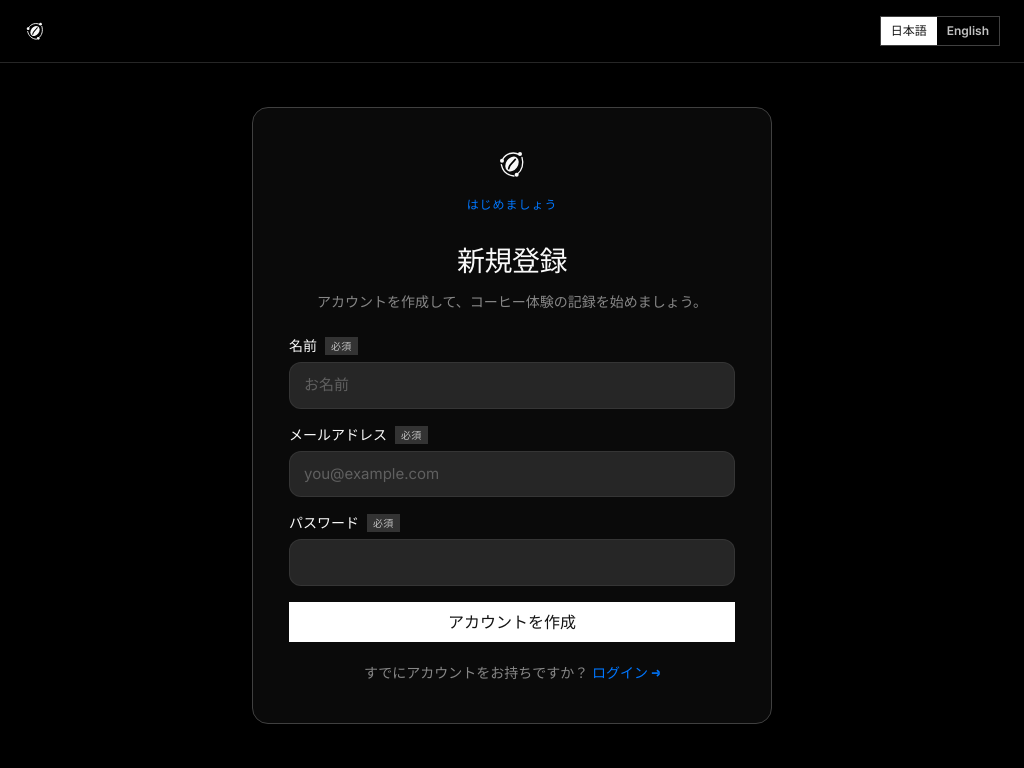
Scenario: RegisterPage › すべて空のまま送信すると、APIを呼ばずクライアント側エラーを表示する
The image size is (1024, 768).
Click the button "アカウントを作成" at (512, 622), box [289, 602, 735, 642]
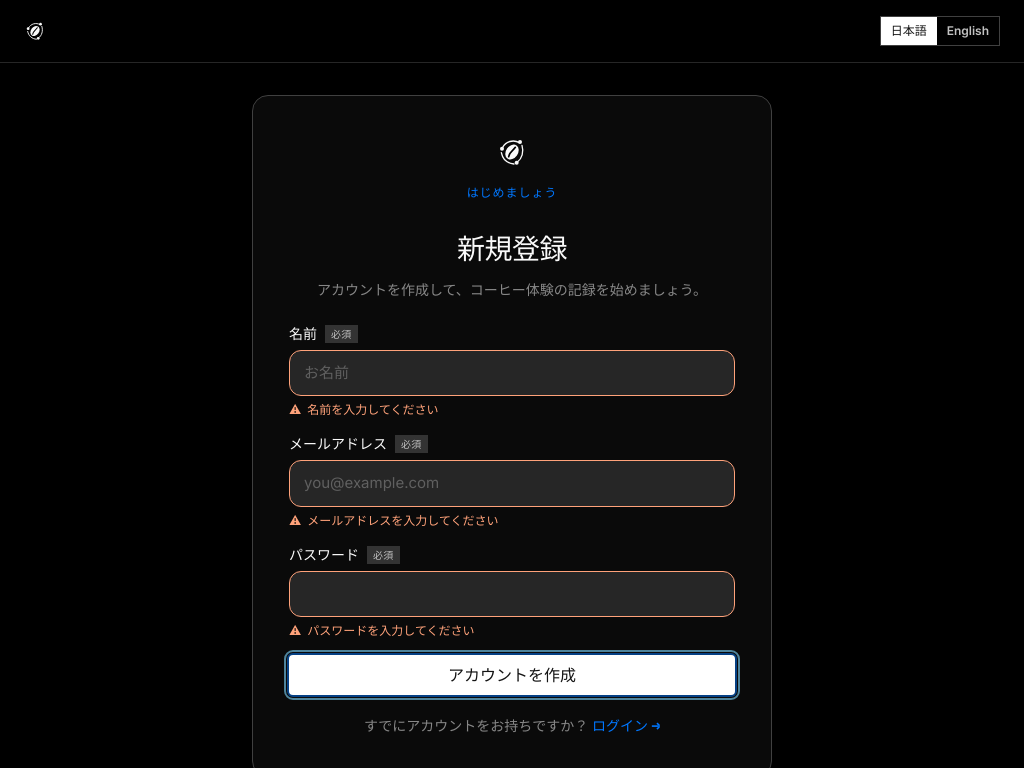
Expected: the text "名前を入力してください" is shown, [307, 402, 439, 418]
